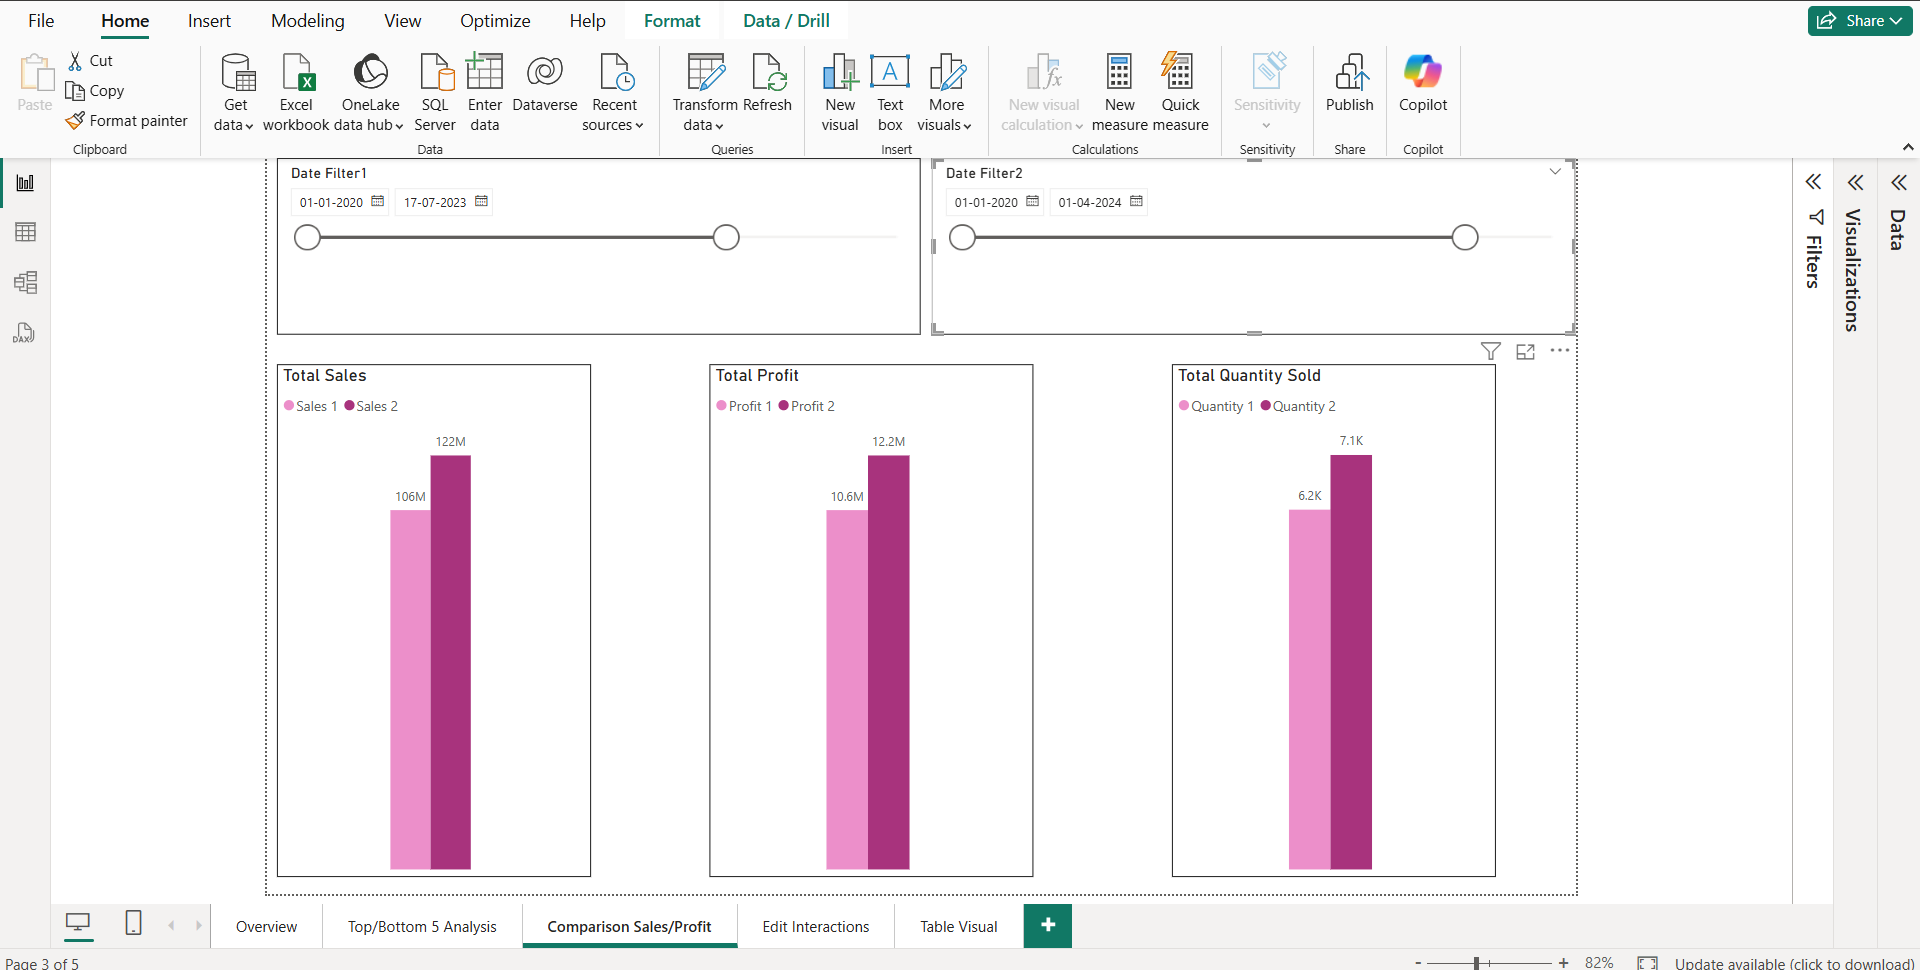

Layout of this report page (visuals, bound fields, positions):
{"tool":"powerbi","page":{"name":"Comparison Sales/Profit","canvas":[1280,720],"ordinal":2},"visuals":[{"type":"slicer","fields":{"Values":["Date Table1.Date"]},"box":[9.8,0,629.8,172.4],"z":0},{"type":"slicer","fields":{"Values":["Date Table2.Date"]},"box":[650.5,0,629.8,172.4],"z":1},{"type":"clusteredColumnChart","title":"Total Sales ","fields":{"Y":["Sum(Fact Table.Net Sales  )","Date Table1.Sum of Net sales"]},"box":[9.8,201.8,306.9,501.4],"z":2},{"type":"clusteredColumnChart","title":"Total Profit","fields":{"Y":["Sum(Fact Table.Profit)","Measures Table.Total Profit"]},"box":[432.9,201.8,316.7,501.4],"z":3},{"type":"clusteredColumnChart","title":"Total Quantity Sold","fields":{"Y":["Sum(Fact Table.Units Sold)","Measures Table.Quantity Sold"]},"box":[885.3,201.8,316.7,501.4],"z":4}]}

Visuals, with their boxes on the page's 1280x720 design canvas (x1, y1, x2, y2). These are canvas units, not pixel positions in the 1920x970 screenshot, which may show the page scaled, cropped or inside an application window:
slicer - Date Table1.Date: detection(10, 0, 640, 172)
slicer - Date Table2.Date: detection(650, 0, 1280, 172)
"Total Sales " clusteredColumnChart: detection(10, 202, 317, 703)
"Total Profit" clusteredColumnChart: detection(433, 202, 750, 703)
"Total Quantity Sold" clusteredColumnChart: detection(885, 202, 1202, 703)
